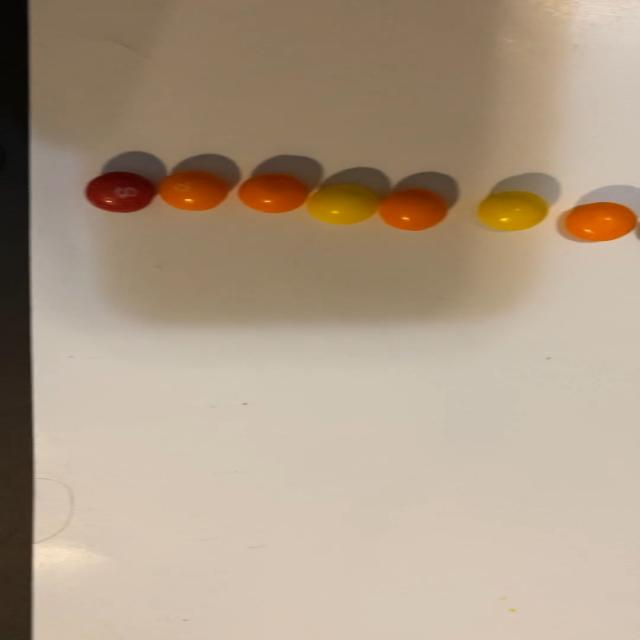smartie: (306, 184, 379, 224), (85, 171, 155, 212), (565, 202, 637, 241), (379, 189, 447, 230), (158, 170, 227, 210), (478, 191, 548, 230), (238, 174, 308, 212)
